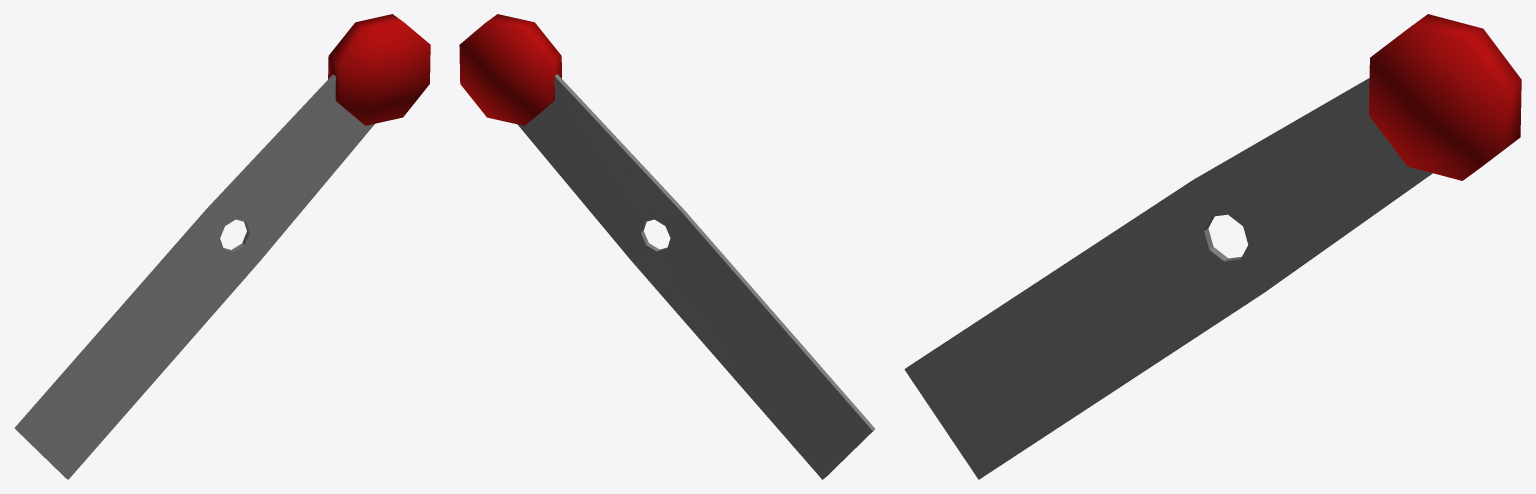
The model's file is Handle.fbx.
The picture shows the model from 3 angles, left to right: view 1: azimuth 30°, elevation 25°; view 2: azimuth 150°, elevation 25°; view 3: azimuth 330°, elevation 25°; orthographic projection. The views are drawn at different scales.
Parts seen in each view (by area): view 1: Handle; view 2: Handle; view 3: Handle.
Boxes of the visible parts, <box> form: Handle: <box>14,14,430,479</box>; Handle: <box>459,14,874,479</box>; Handle: <box>904,14,1521,479</box>.
Size of the model in its own units: 0.8062 by 0.7166 by 0.0419.
